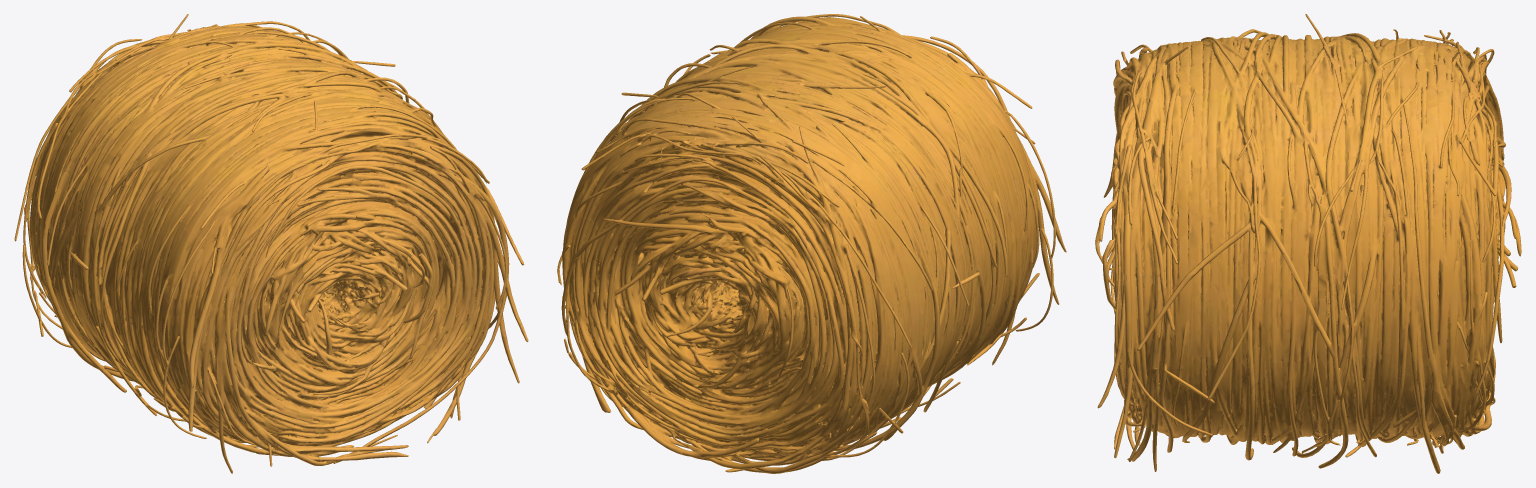
Rendered from Meshy_AI_A_solid_heavily_comp_0823164152_texture-optimized.glb.
3 renders of one model, left to right at view 1: azimuth 30°, elevation 25°; view 2: azimuth 150°, elevation 25°; view 3: azimuth 270°, elevation 25°, orthographic. The views are drawn at different scales.
Parts seen in each view (by area): view 1: mesh_node; view 2: mesh_node; view 3: mesh_node.
Boxes of the visible parts, <box> form: mesh_node: <box>14,14,528,473</box>; mesh_node: <box>557,14,1066,473</box>; mesh_node: <box>1095,14,1521,473</box>.
Size of the model in its own units: 1.9 by 1.62 by 1.68.
Materials: 1 (1 with a texture image).
